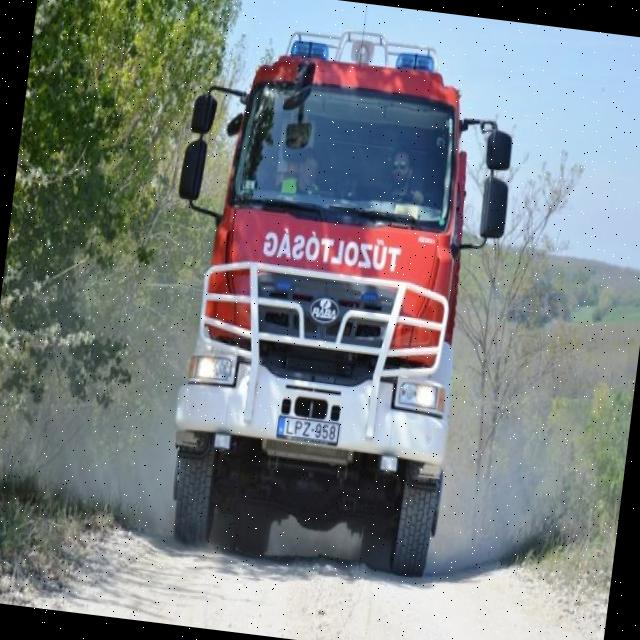licence: (274, 410, 344, 450)
